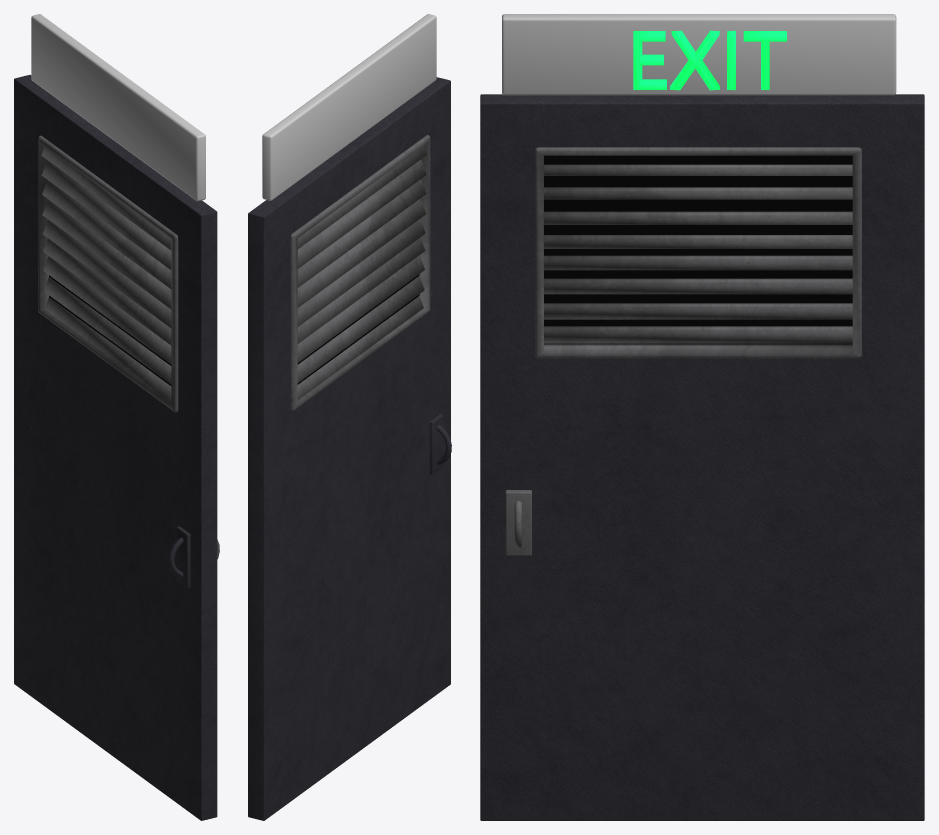
Rendered from skatepark.fbx_door.fbx.
The picture shows the model from 3 angles, left to right: view 1: azimuth 30°, elevation 25°; view 2: azimuth 150°, elevation 25°; view 3: azimuth 270°, elevation 25°; orthographic projection. The views are drawn at different scales.
Parts seen in each view (by area): view 1: door, Exit_Plate; view 2: door, Exit_Plate; view 3: door, Exit_Plate, Exit_Text.
Part boxes in pixels (x1,y1,x2,y2): door: (14, 75, 219, 820); Exit_Plate: (31, 14, 205, 201); door: (248, 77, 451, 820); Exit_Plate: (262, 14, 436, 200); door: (480, 94, 924, 820); Exit_Plate: (502, 14, 896, 95); Exit_Text: (633, 30, 786, 90).
Size of the model in its own units: 18.24 by 235 by 118.
5 materials, 2 textured.
